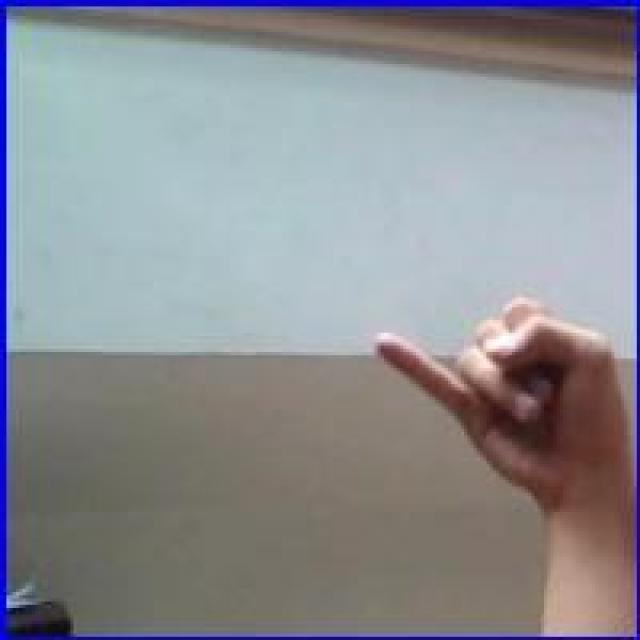J: (370, 290, 628, 542)
